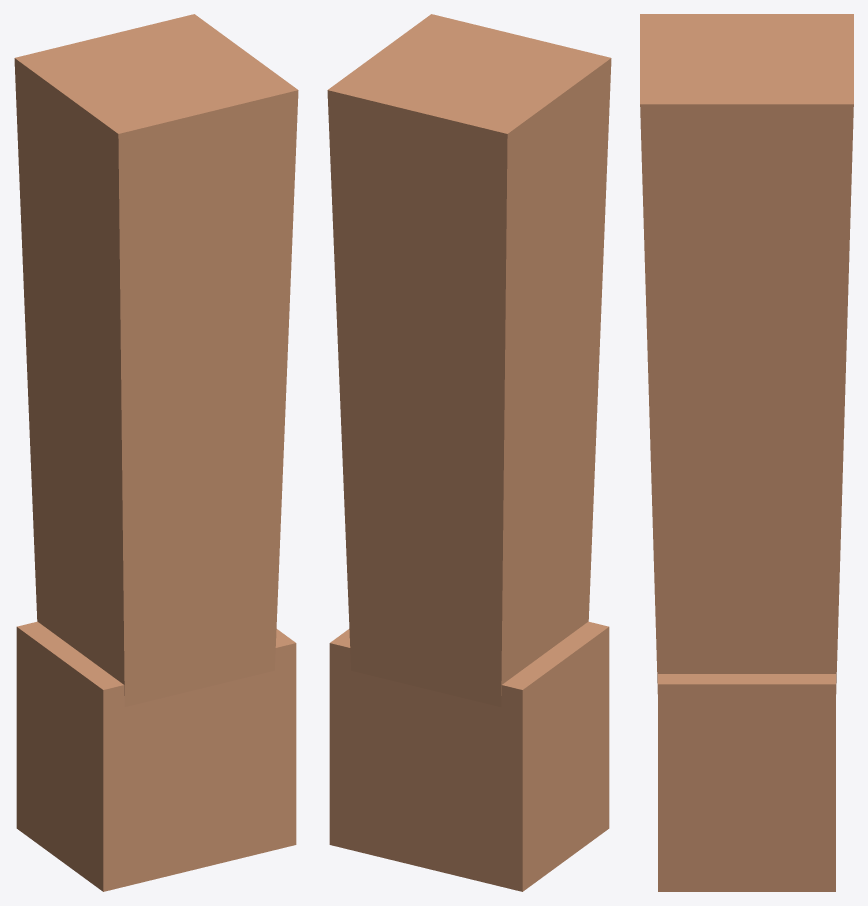
Rendered from smith_forearm.glb.
3 views of the same model, side by side, from view 1: azimuth 30°, elevation 25°; view 2: azimuth 150°, elevation 25°; view 3: azimuth 270°, elevation 25° (orthographic). The views are drawn at different scales.
Visible parts, largest first — view 1: smith_forearm; view 2: smith_forearm; view 3: smith_forearm.
Part boxes in pixels (x1=…): smith_forearm: x1=14, y1=14, x2=298, y2=891; smith_forearm: x1=327, y1=14, x2=611, y2=891; smith_forearm: x1=640, y1=14, x2=853, y2=891.
Bounding box in the file's own units: 0.09 × 0.34 × 0.084.
